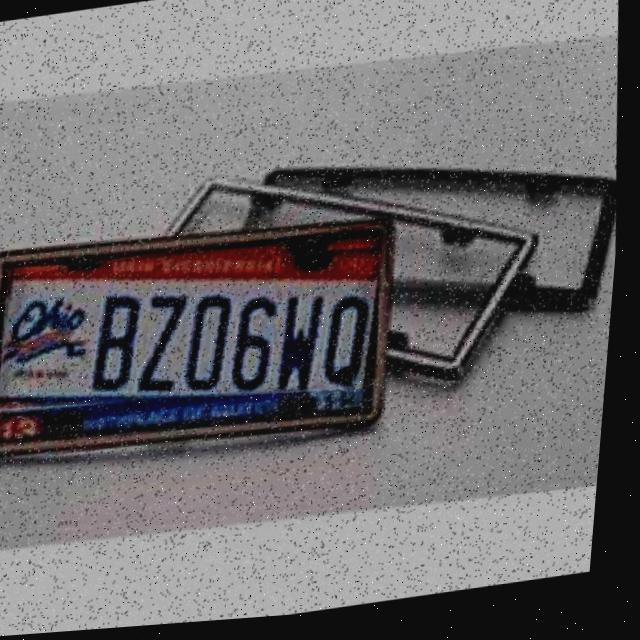LicensePlate: (0, 228, 395, 434)
